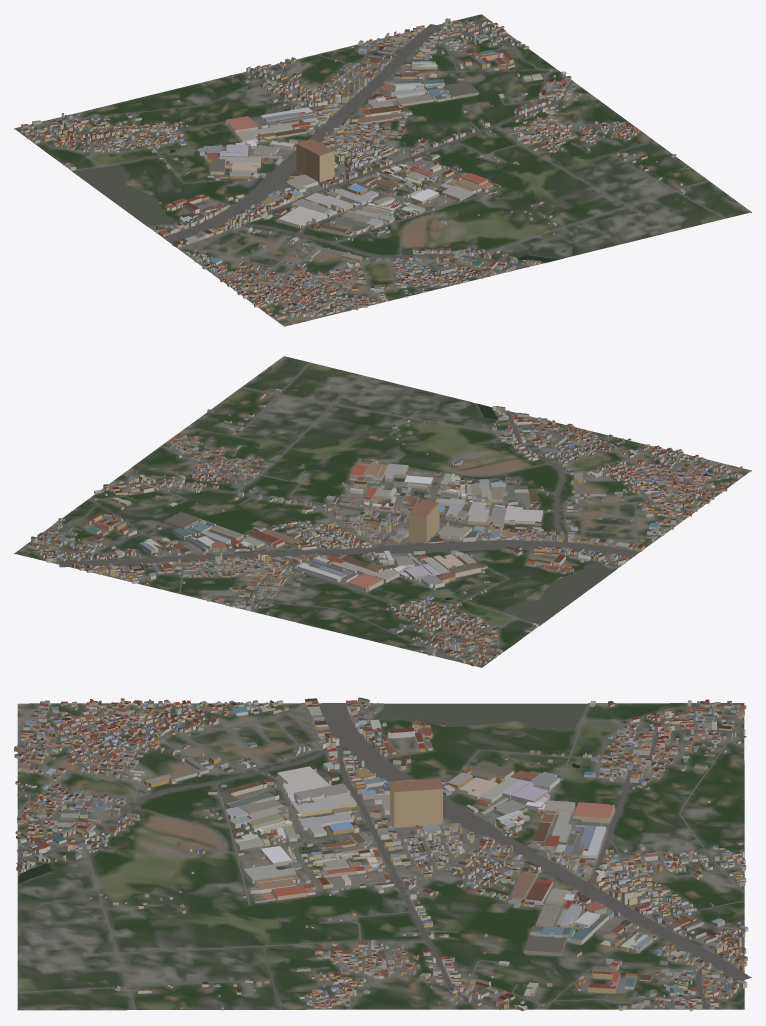
3 views of the same model, one above another, from view 1: azimuth 30°, elevation 25°; view 2: azimuth 150°, elevation 25°; view 3: azimuth 270°, elevation 25° (orthographic). The views are drawn at different scales.
Visible parts, largest first — view 1: ground, buildings, roads, water; view 2: ground, buildings, roads, water; view 3: ground, buildings, roads, water.
Part boxes in pixels (<box>): ground: <box>14,14,751,326</box>; buildings: <box>20,18,689,324</box>; roads: <box>28,22,725,320</box>; water: <box>73,149,558,262</box>; ground: <box>14,356,751,667</box>; buildings: <box>26,388,742,666</box>; roads: <box>29,362,743,664</box>; water: <box>444,403,614,625</box>; ground: <box>17,703,744,1010</box>; buildings: <box>14,697,748,1011</box>; roads: <box>16,702,751,1009</box>; water: <box>18,703,587,884</box>.
Size of the model in its own units: 1415 by 80.54 by 1423.
